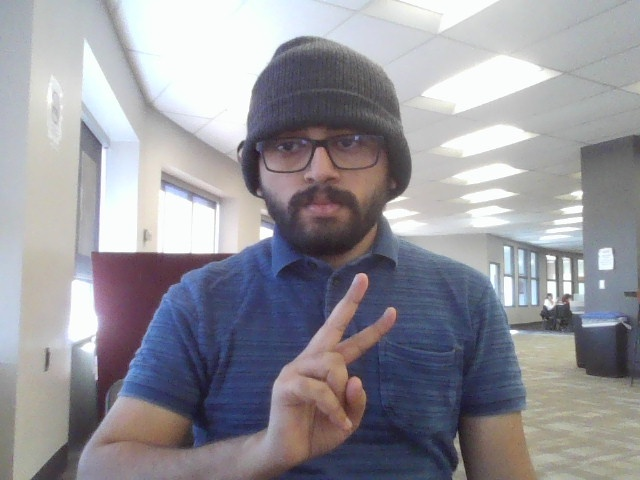start: (263, 265, 418, 478)
